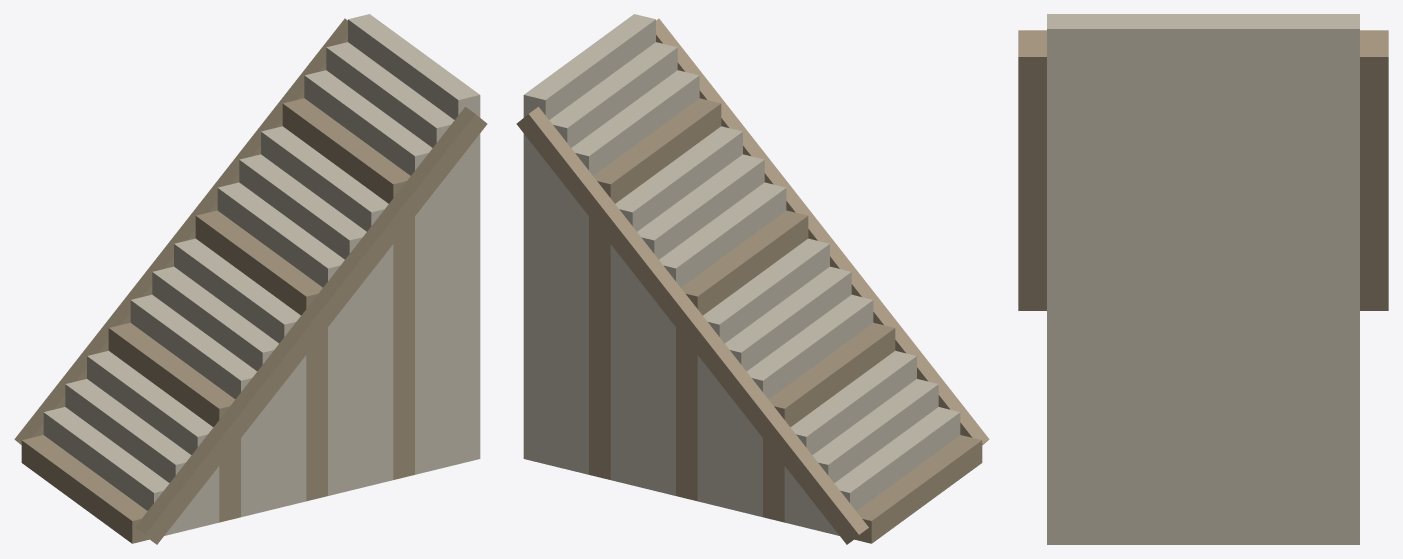
Rendered from StairStraight__Run.fbx.
3 views of the same model, side by side, from view 1: azimuth 30°, elevation 25°; view 2: azimuth 150°, elevation 25°; view 3: azimuth 270°, elevation 25° (orthographic). The views are drawn at different scales.
Parts seen in each view (by area): view 1: StairStraight__Run; view 2: StairStraight__Run; view 3: StairStraight__Run.
Part boxes in pixels (x1,y1,x2,y2): StairStraight__Run: (14,14,487,544); StairStraight__Run: (516,14,989,544); StairStraight__Run: (1018,14,1388,544).
Size of the model in its own units: 400 by 400 by 260.
1 material, 1 textured.
